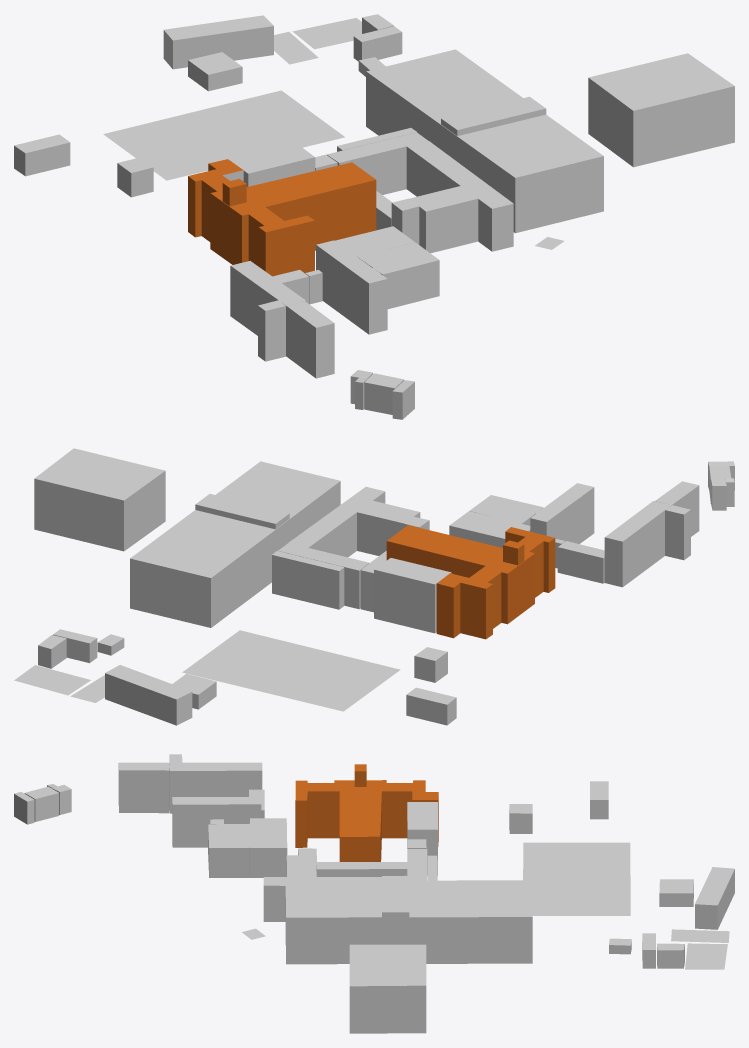
File: mapabeta2.fbx
3 renders of one model, top to bottom at view 1: azimuth 30°, elevation 25°; view 2: azimuth 150°, elevation 25°; view 3: azimuth 270°, elevation 25°, orthographic. The views are drawn at different scales.
Visible parts, largest first — view 1: Plane; view 2: Plane; view 3: Plane.
Part boxes in pixels (x1,y1,x2,y2): Plane: [14, 14, 734, 419]; Plane: [14, 448, 734, 725]; Plane: [14, 754, 734, 1033].
Bounding box in the file's own units: 1257 × 160 × 1616.
